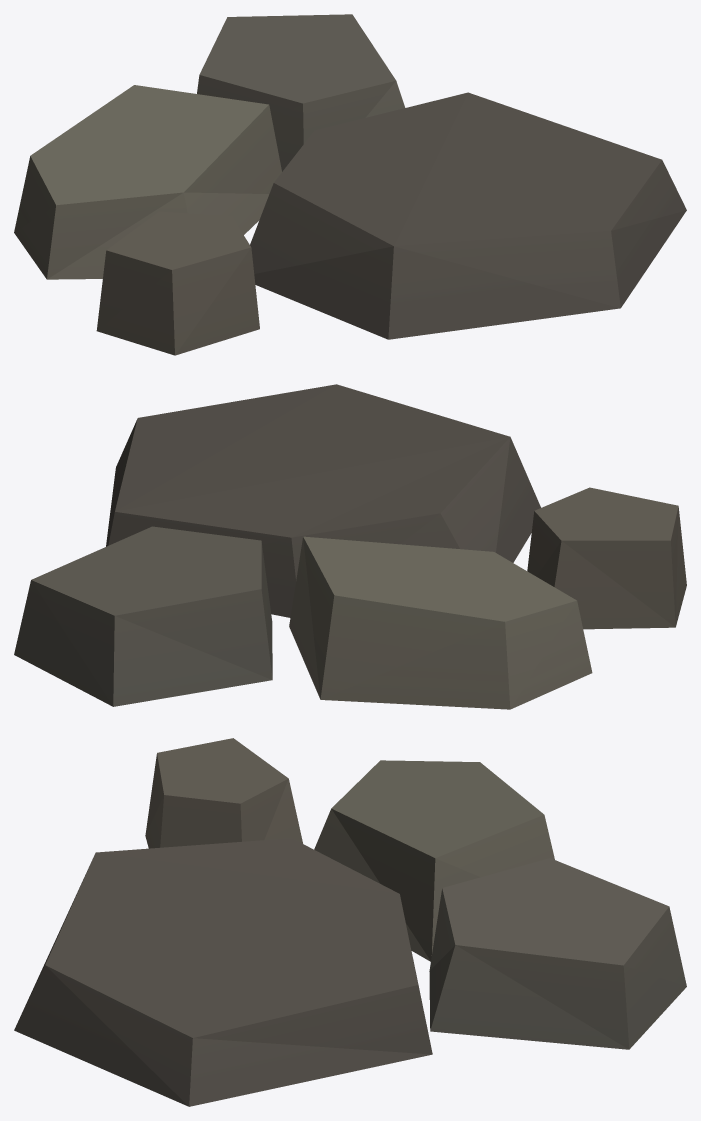
Rendered from stone.glb.
3 renders of one model, top to bottom at view 1: azimuth 30°, elevation 25°; view 2: azimuth 150°, elevation 25°; view 3: azimuth 270°, elevation 25°, orthographic. The views are drawn at different scales.
Parts seen in each view (by area): view 1: mff_stone_path_1; view 2: mff_stone_path_1; view 3: mff_stone_path_1.
Part boxes in pixels (left/top/right/bottom): mff_stone_path_1: left=14, top=14, right=686, bottom=355; mff_stone_path_1: left=14, top=384, right=686, bottom=709; mff_stone_path_1: left=14, top=738, right=686, bottom=1106.
Bounding box in the file's own units: 1.6 × 0.2525 × 1.57.
1 material, 1 textured.
